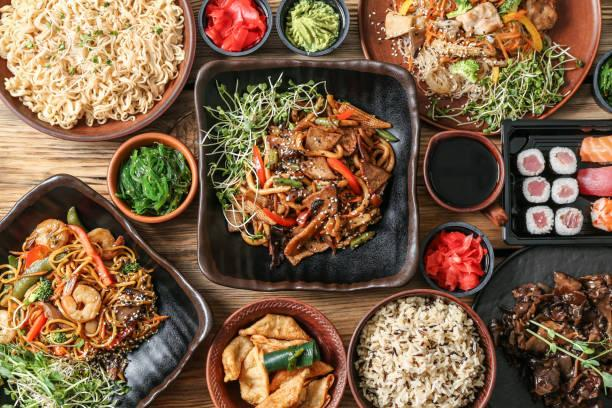Braised Crucian Carp: (192, 56, 413, 293), (3, 174, 213, 405), (366, 0, 594, 134), (2, 1, 192, 142), (468, 243, 609, 408), (346, 289, 490, 406), (205, 297, 349, 406), (498, 117, 607, 245)
